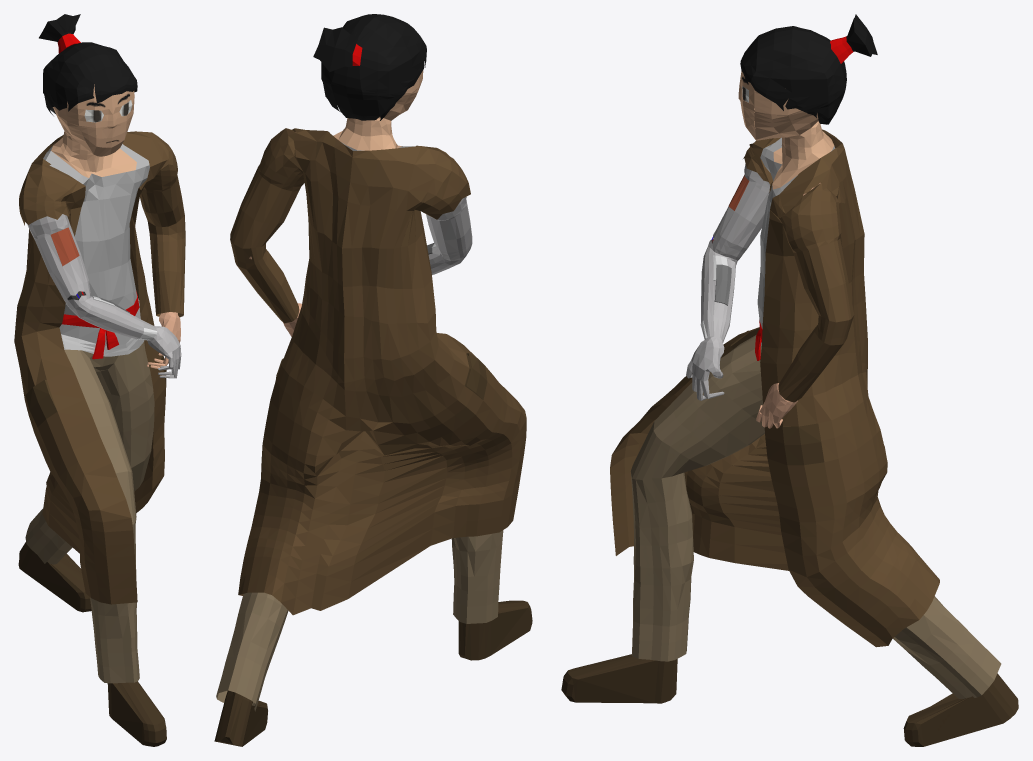
File: One_Bash_000014.obj
3 renders of one model, left to right at view 1: azimuth 30°, elevation 25°; view 2: azimuth 150°, elevation 25°; view 3: azimuth 270°, elevation 25°, orthographic. The views are drawn at different scales.
Visible parts, largest first — view 1: Hair_Cube.004; view 2: Hair_Cube.004; view 3: Hair_Cube.004.
Boxes of the visible parts, x1,y1,x2,y2 form: Hair_Cube.004: [14, 14, 185, 746]; Hair_Cube.004: [214, 14, 532, 746]; Hair_Cube.004: [561, 14, 1018, 746].
Size of the model in its own units: 1.15 by 3.69 by 2.19.
